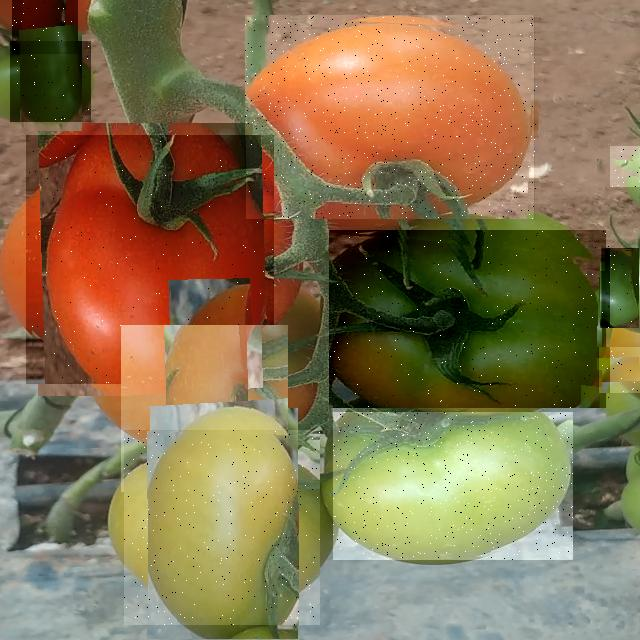Ripe Tomato: (26, 135, 274, 384), (245, 15, 538, 219), (121, 325, 288, 492), (12, 0, 78, 54), (601, 347, 640, 393)
Unripe Tomato: (330, 230, 610, 408), (124, 430, 320, 625), (333, 412, 573, 560), (10, 41, 91, 122), (604, 248, 639, 328), (610, 146, 640, 187)
